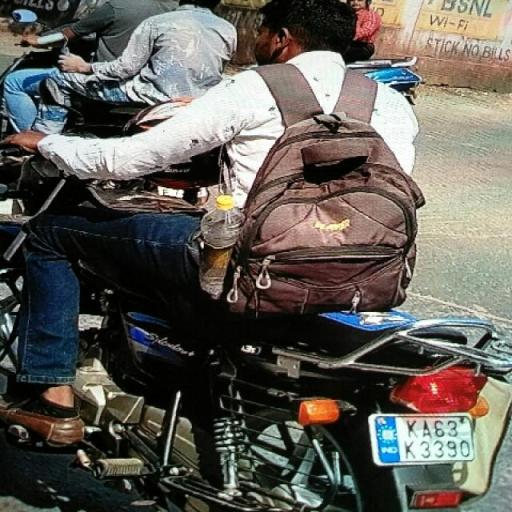bike: (2, 0, 512, 512)
numberplate: (374, 414, 478, 464)
withouthelmet: (260, 1, 355, 54)
